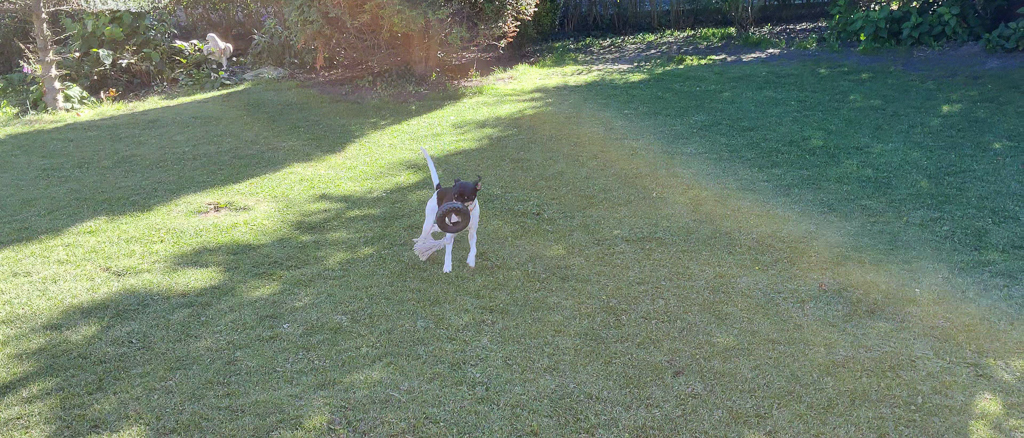Dog: (406, 135, 489, 280)
